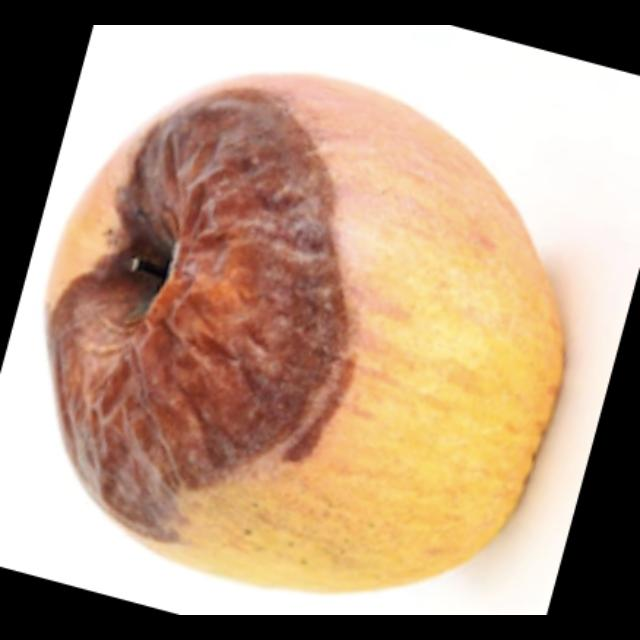Apel Tidak Segar: (49, 71, 558, 593)
